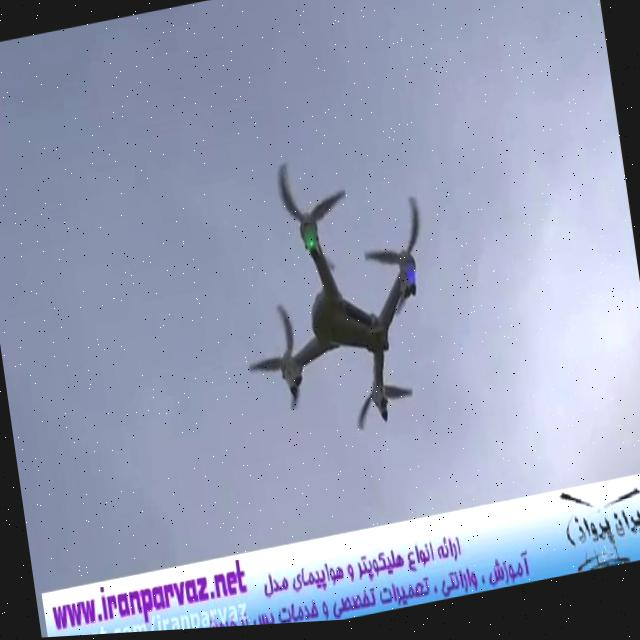drone: (214, 130, 453, 463)
